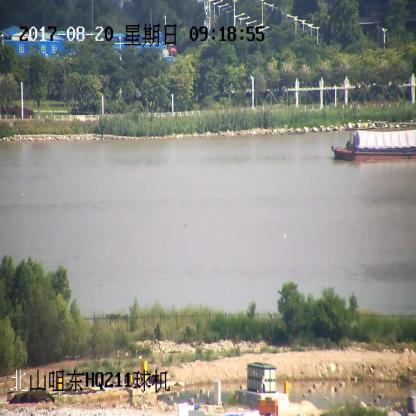Bulk Carrier: (332, 130, 415, 166)
